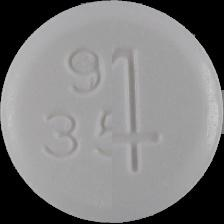61919-273: (0, 0, 224, 224)
